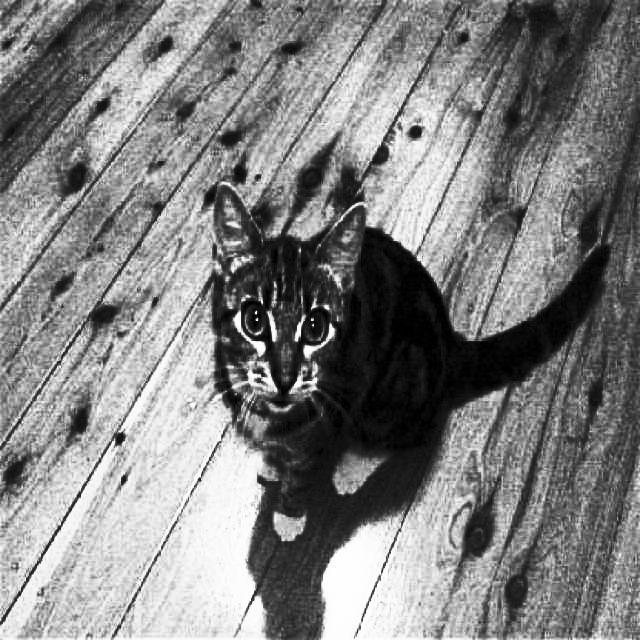Cat: (207, 163, 616, 543)
